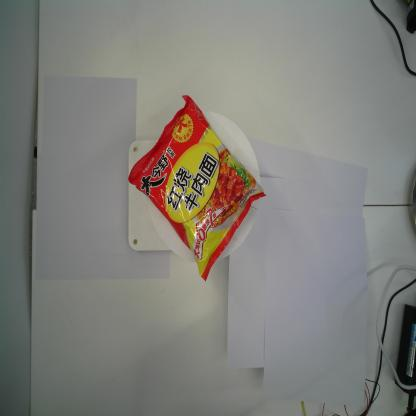Instant Noodles: (127, 94, 267, 282)
